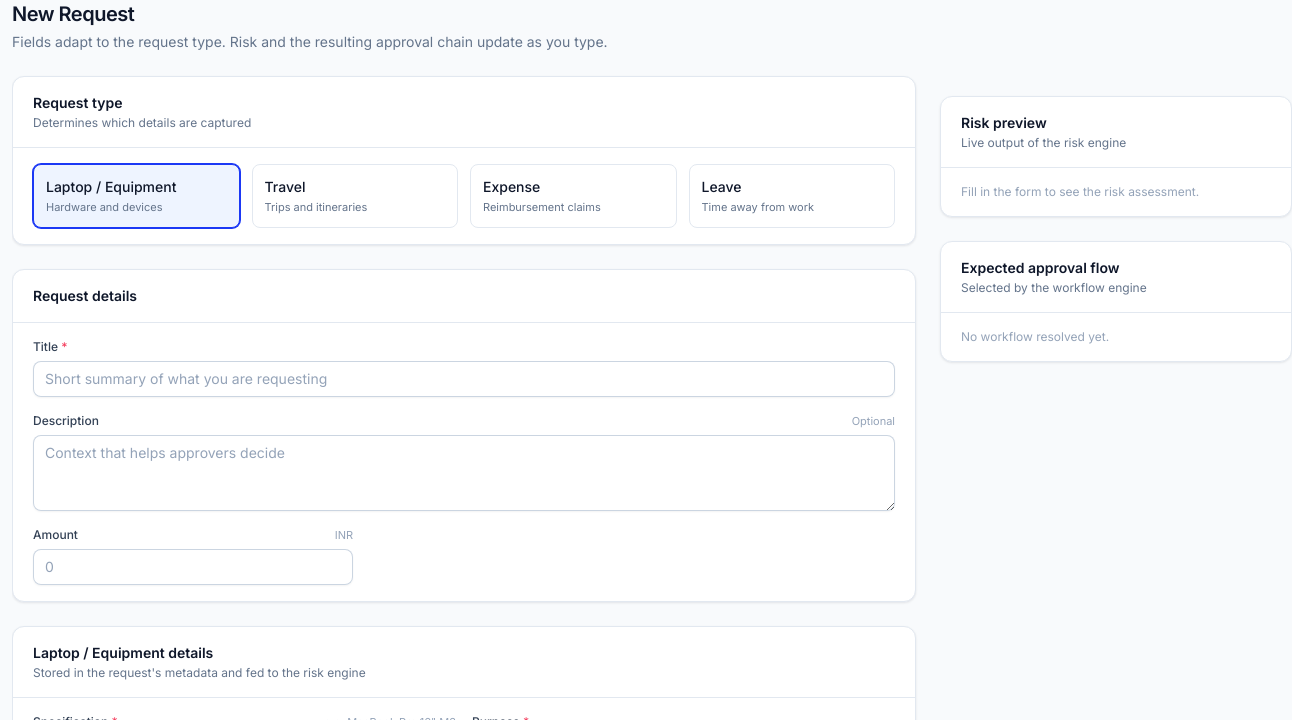
it: Raise a request › surfaces a failed submission instead of navigating away
Type "Laptop request" into the field labelled "Title *" at (464, 379), box [33, 361, 895, 397]
(page scrolled)
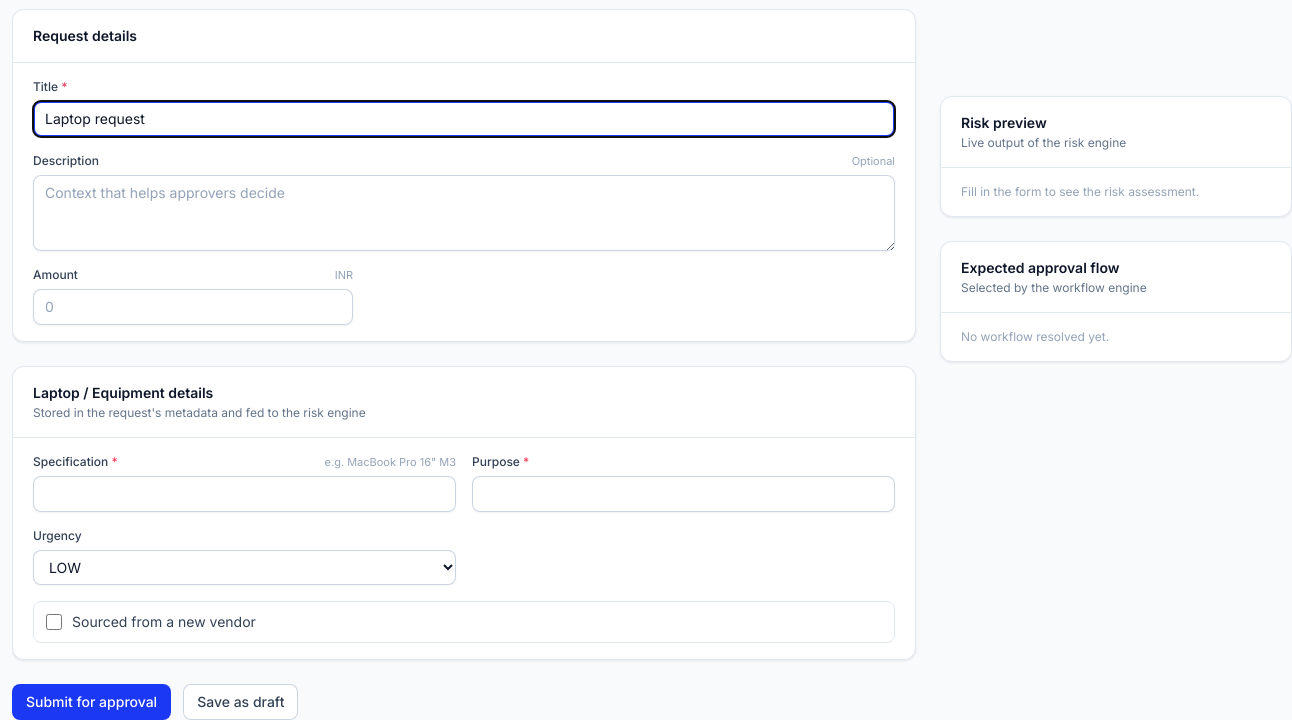
Type "Dell Latitude" into the field labelled "Specification * e.g. MacBook Pro 16\" M3" at (244, 494), box [33, 476, 456, 512]
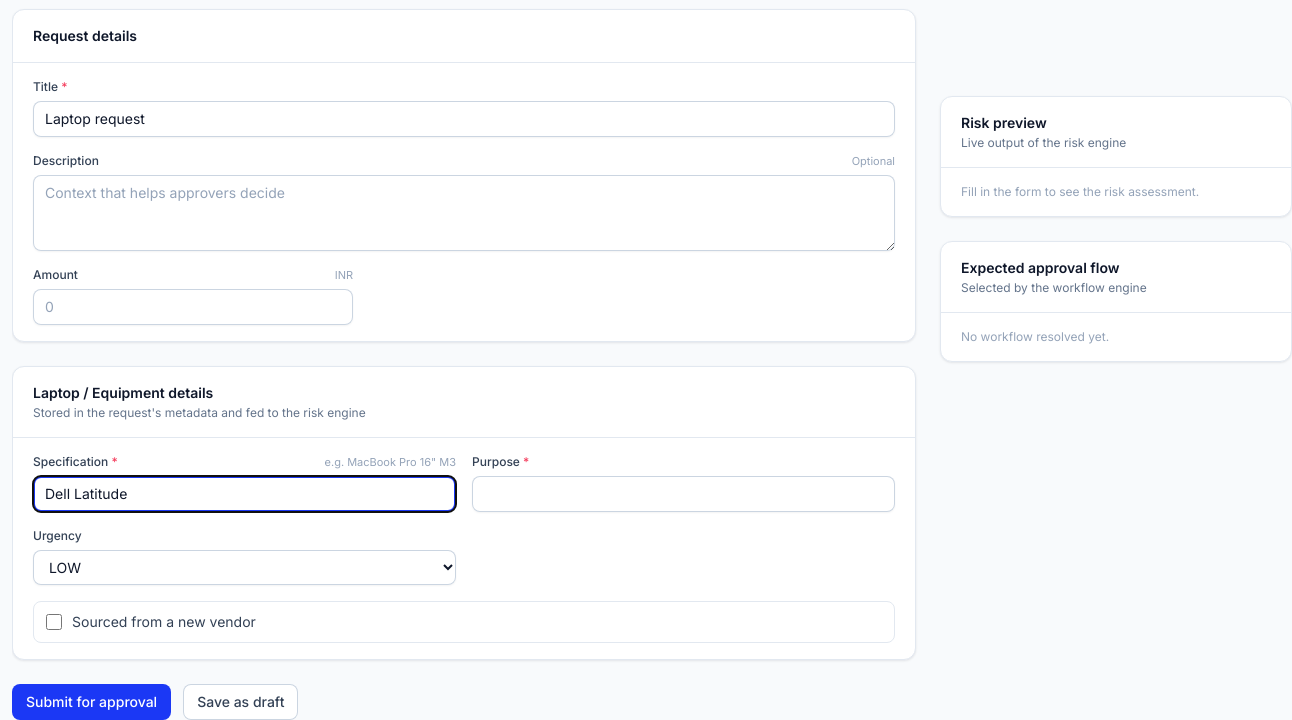
Type "Development" into the field labelled "Purpose *" at (684, 494), box [472, 476, 895, 512]
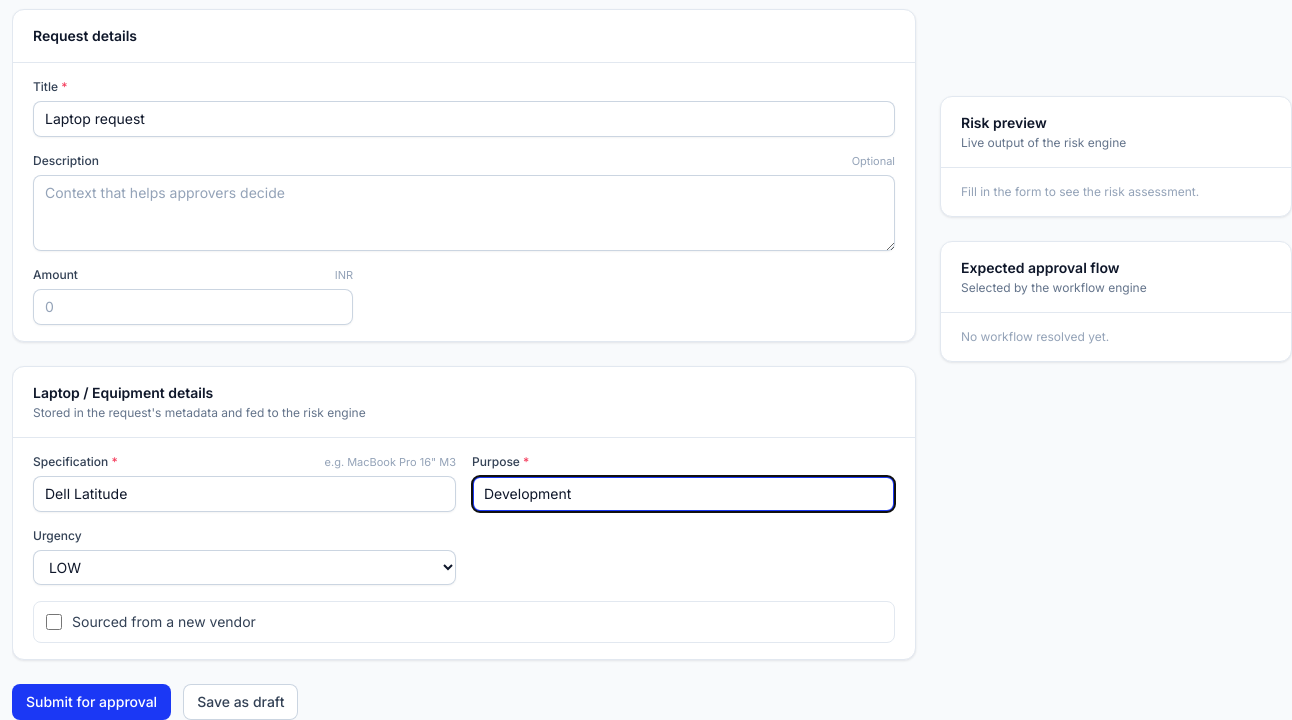
Click the button "Submit for approval" at (92, 702), box [12, 684, 171, 719]
(page scrolled)
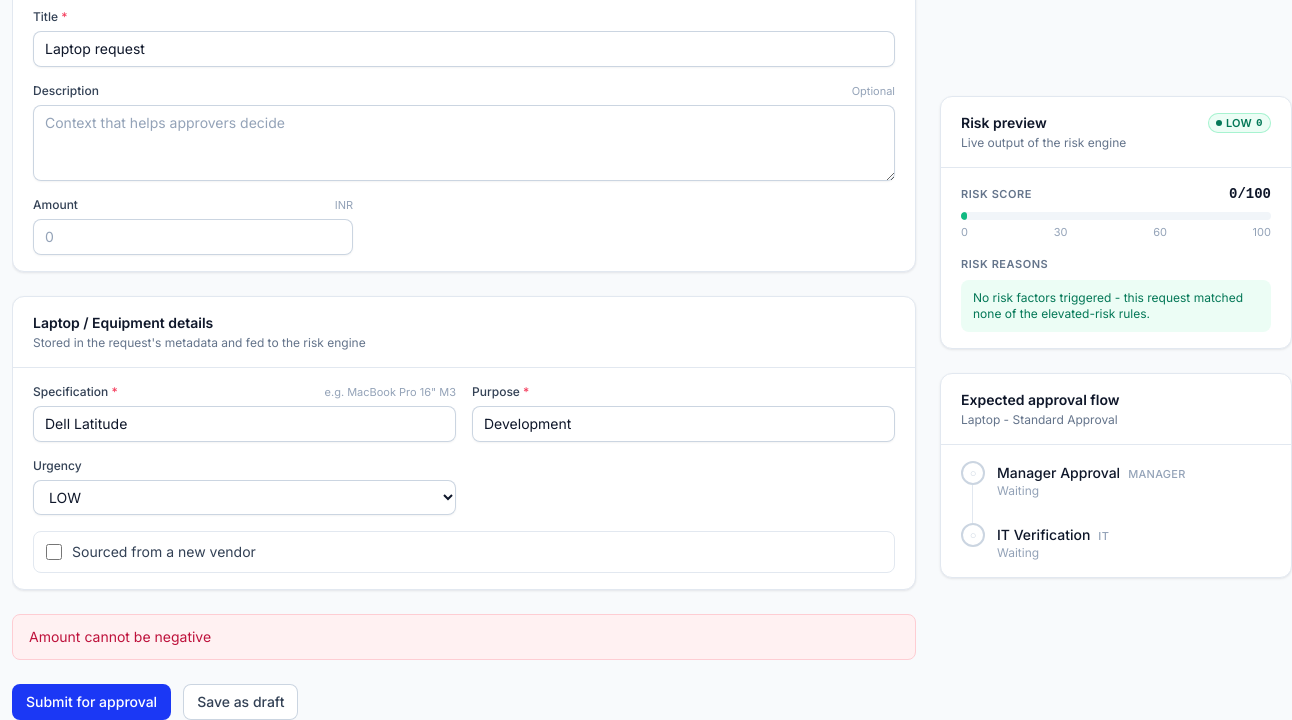
expect the text "Amount cannot be negative" is shown: met, box [12, 614, 916, 660]
